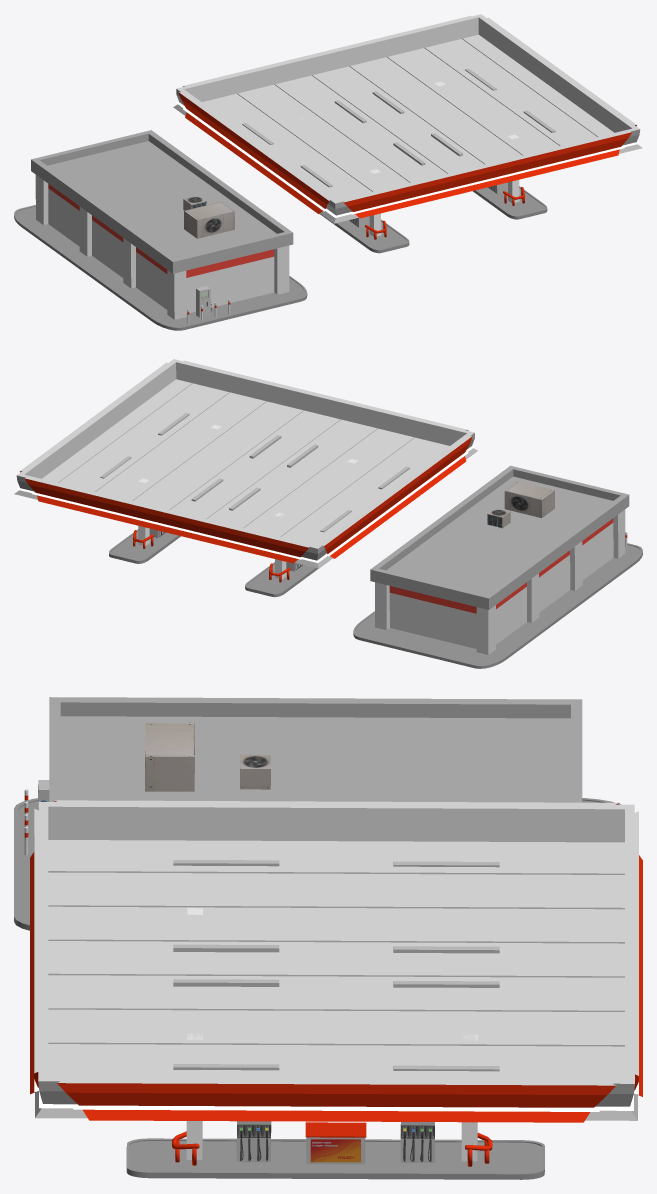
File: station2.glb
3 views of the same model, one above another, from view 1: azimuth 30°, elevation 25°; view 2: azimuth 150°, elevation 25°; view 3: azimuth 270°, elevation 25° (orthographic). The views are drawn at different scales.
Parts seen in each view (by area): view 1: Plane.001_Material_0, Plane.001_gray walls_0, Plane.005_barierki_0, Plane.002_concrete_0, Plane.001_ac_0, Plane.005_glowin_0, Plane.001_obudowa_0, Plane.001_walls_0, Cube.040_obudowa.001_0, Cube.002__0; view 2: Plane.001_Material_0, Plane.001_gray walls_0, Plane.002_concrete_0, Plane.005_barierki_0, Plane.001_ac_0, Plane.005_glowin_0, Plane.001_walls_0, Plane.001_obudowa_0, Cube.040_obudowa.001_0, Cube.002__0; view 3: Plane.001_Material_0, Plane.001_gray walls_0, Plane.005_barierki_0, Plane.002_concrete_0, Plane.001_obudowa_0, Plane.001_ac_0, Plane.005_glowin_0, Cube.040_obudowa.001_0, Cube.002__0, Cube.036_milesad_0, Cube.003_czarny mat_0.
Part boxes in pixels (left/top/right/bottom): Plane.001_Material_0: left=35, top=14, right=639, bottom=323; Plane.001_gray walls_0: left=31, top=89, right=642, bottom=273; Plane.005_barierki_0: left=178, top=86, right=636, bottom=314; Plane.002_concrete_0: left=14, top=186, right=547, bottom=330; Plane.001_ac_0: left=183, top=195, right=234, bottom=238; Plane.005_glowin_0: left=176, top=101, right=639, bottom=217; Plane.001_obudowa_0: left=196, top=68, right=507, bottom=317; Plane.001_walls_0: left=48, top=184, right=274, bottom=300; Cube.040_obudowa.001_0: left=300, top=110, right=555, bottom=187; Cube.002__0: left=302, top=81, right=519, bottom=236; Plane.001_Material_0: left=17, top=359, right=627, bottom=654; Plane.001_gray walls_0: left=14, top=433, right=629, bottom=609; Plane.002_concrete_0: left=109, top=529, right=642, bottom=668; Plane.005_barierki_0: left=20, top=430, right=627, bottom=582; Plane.001_ac_0: left=487, top=481, right=554, bottom=527; Plane.005_glowin_0: left=17, top=445, right=474, bottom=562; Plane.001_walls_0: left=389, top=518, right=613, bottom=613; Plane.001_obudowa_0: left=100, top=456, right=351, bottom=571; Cube.040_obudowa.001_0: left=158, top=413, right=409, bottom=489; Cube.002__0: left=138, top=425, right=357, bottom=579; Plane.001_Material_0: left=24, top=789, right=638, bottom=1085; Plane.001_gray walls_0: left=34, top=697, right=637, bottom=1120; Plane.005_barierki_0: left=24, top=795, right=642, bottom=1166; Plane.002_concrete_0: left=14, top=798, right=621, bottom=1179; Plane.001_obudowa_0: left=38, top=780, right=499, bottom=1164; Plane.001_ac_0: left=145, top=722, right=270, bottom=791; Plane.005_glowin_0: left=34, top=1079, right=638, bottom=1111; Cube.040_obudowa.001_0: left=173, top=860, right=279, bottom=1070; Cube.002__0: left=186, top=908, right=477, bottom=1161; Cube.036_milesad_0: left=310, top=1139, right=360, bottom=1162; Cube.003_czarny mat_0: left=38, top=786, right=434, bottom=1161.
Size of the model in its own units: 37.97 by 6.39 by 22.88.
Materials: 45 (14 with a texture image).
